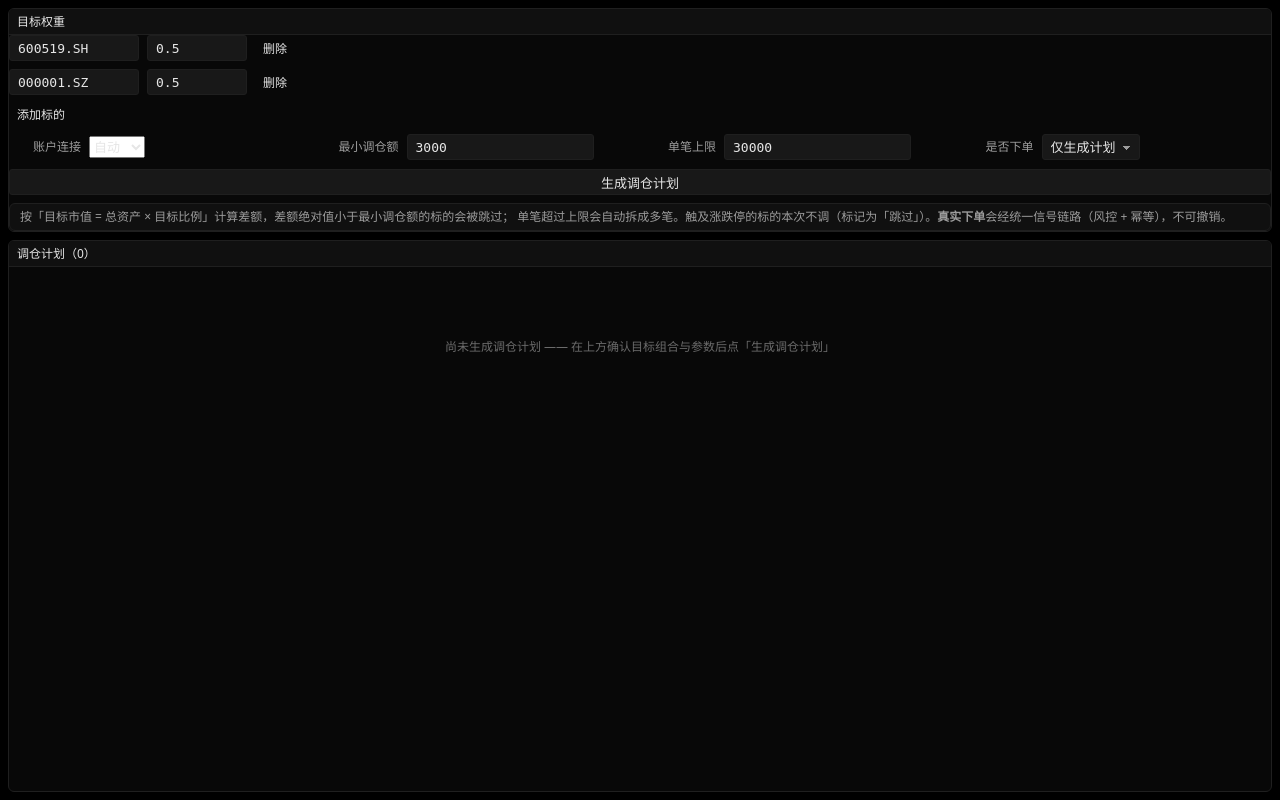
it: Rebalance · 分仓再平衡 › ① 仅生成计划：直接执行，不弹确认
Click the button "生成调仓计划". click: {"x": 640, "y": 182}
box: [9, 169, 1271, 195]
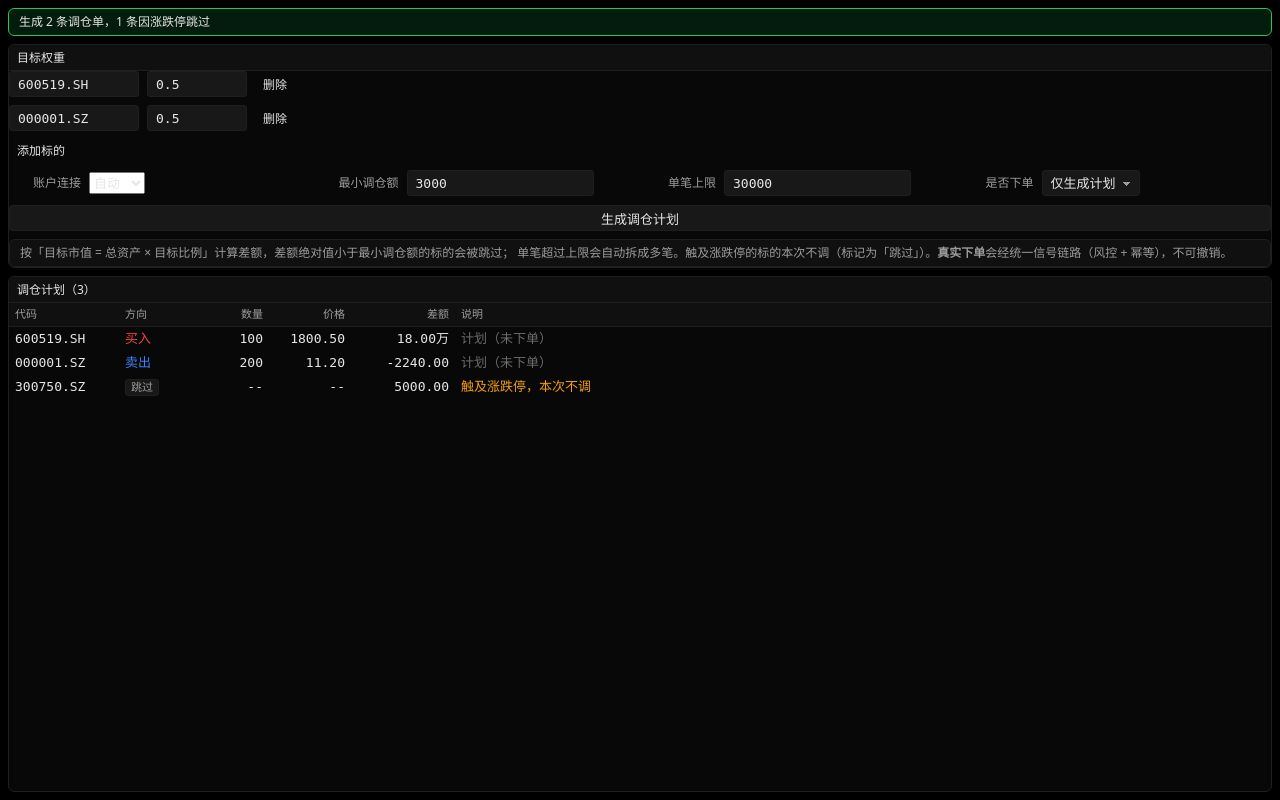
Expected: the text "生成 2 条调仓单，1 条因涨跌停跳过" is shown, [8, 8, 1272, 36]
